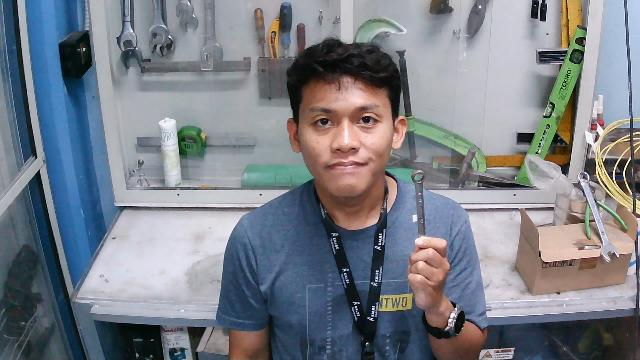kunci_pass_13: (404, 165, 454, 294)
